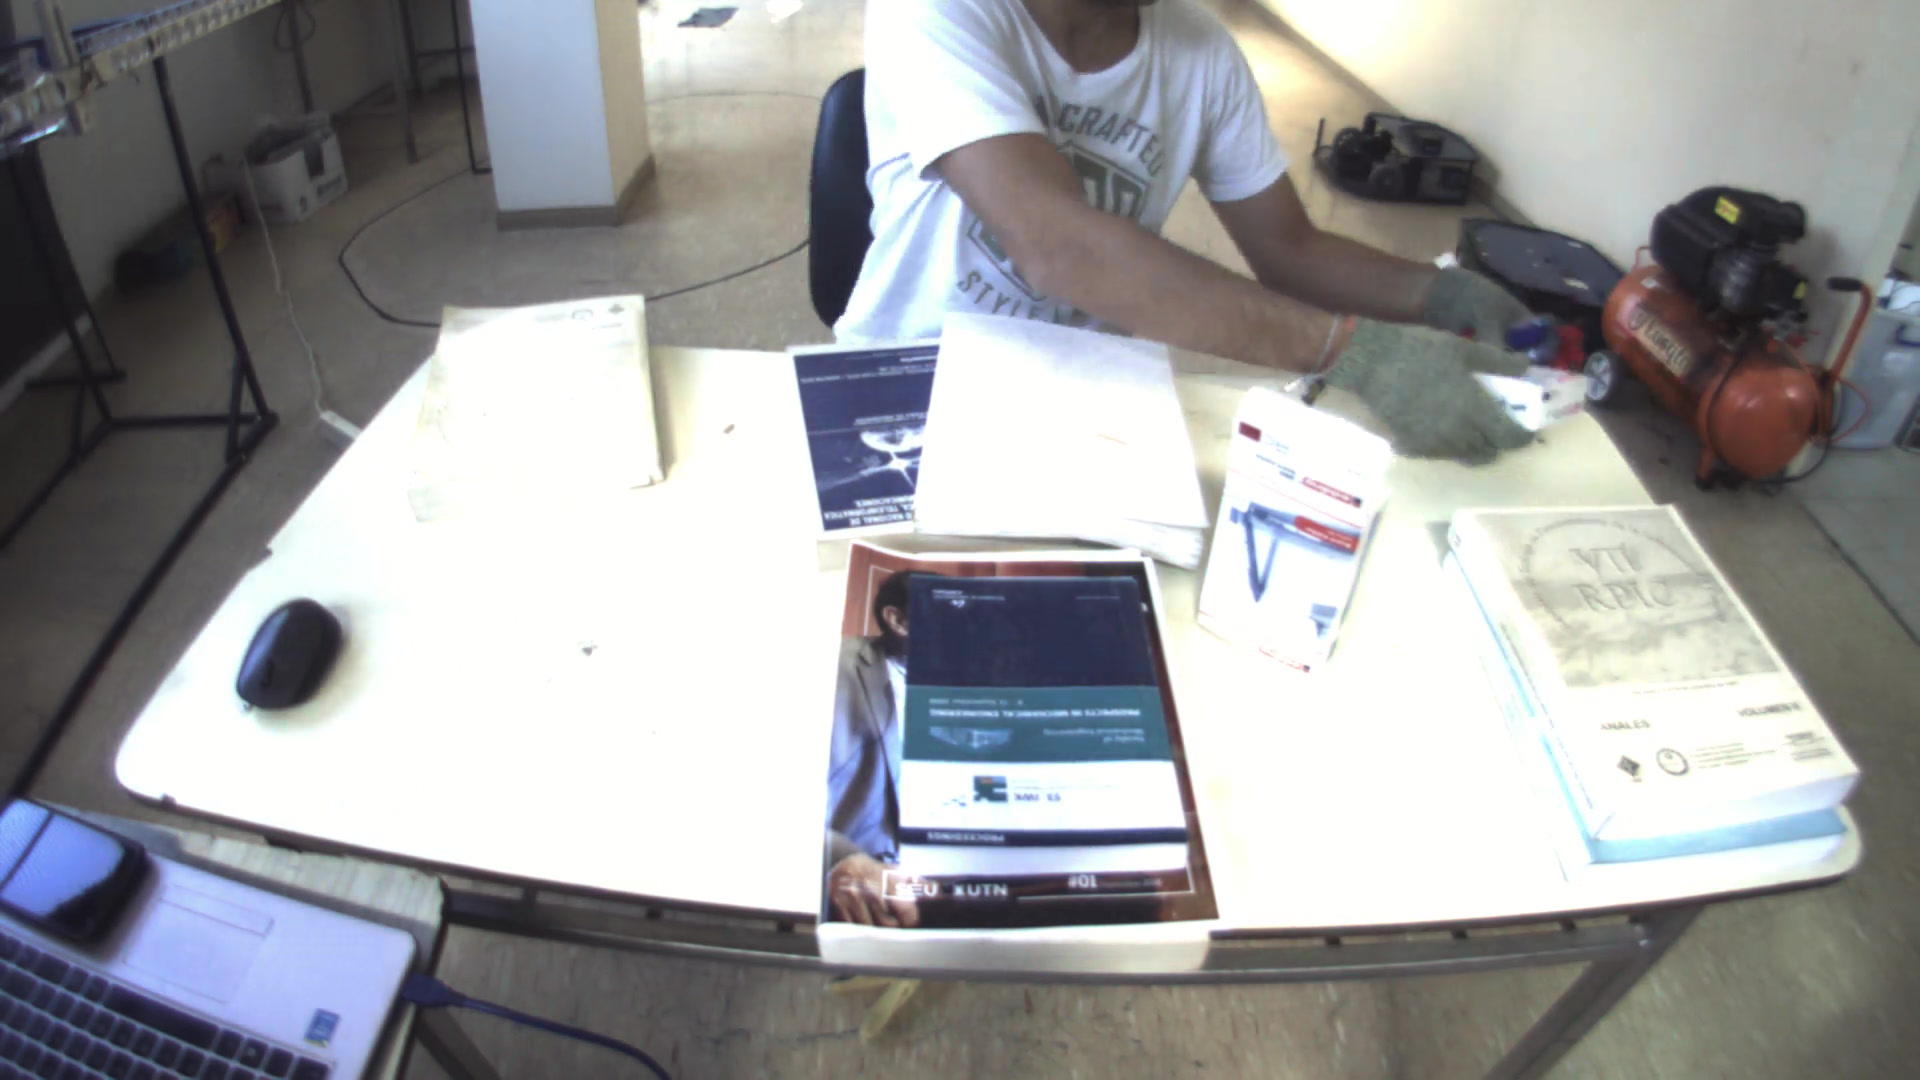hand: (1317, 316, 1557, 458), (1420, 260, 1545, 349)
